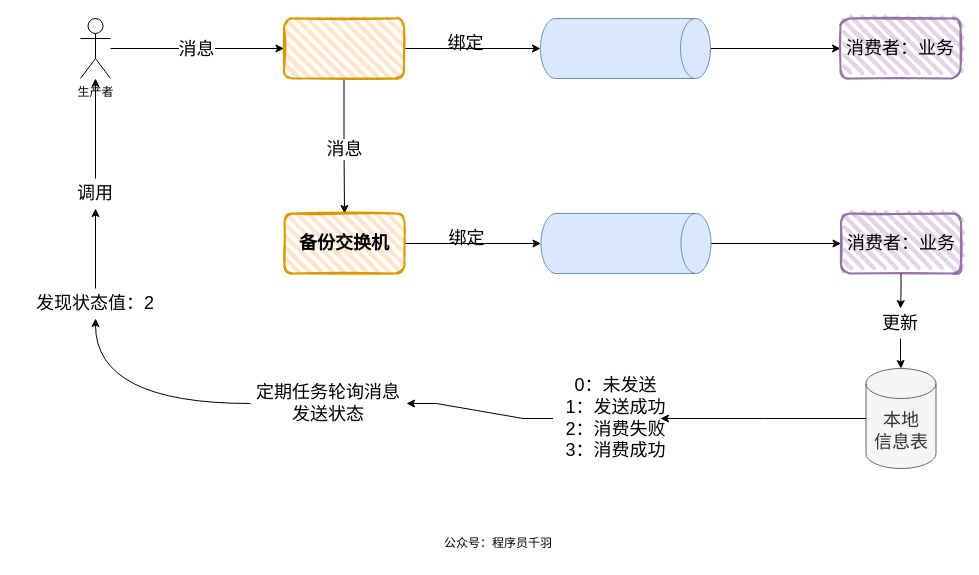
The diagram is 979 pixels wide and 575 high, and some of its shapes have lost their labels. The shapes that lost their labels are listed below. From the top down, each one's centre as x and y in pixels, then its label:
pixel 343 48: 目标交换机
pixel 625 48: 队列A
pixel 625 243: 队列B
